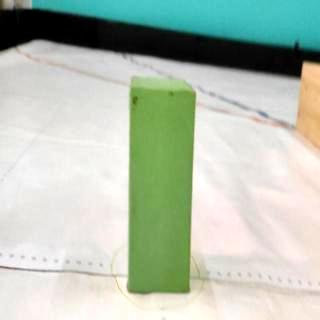greenbox: (126, 74, 198, 292)
